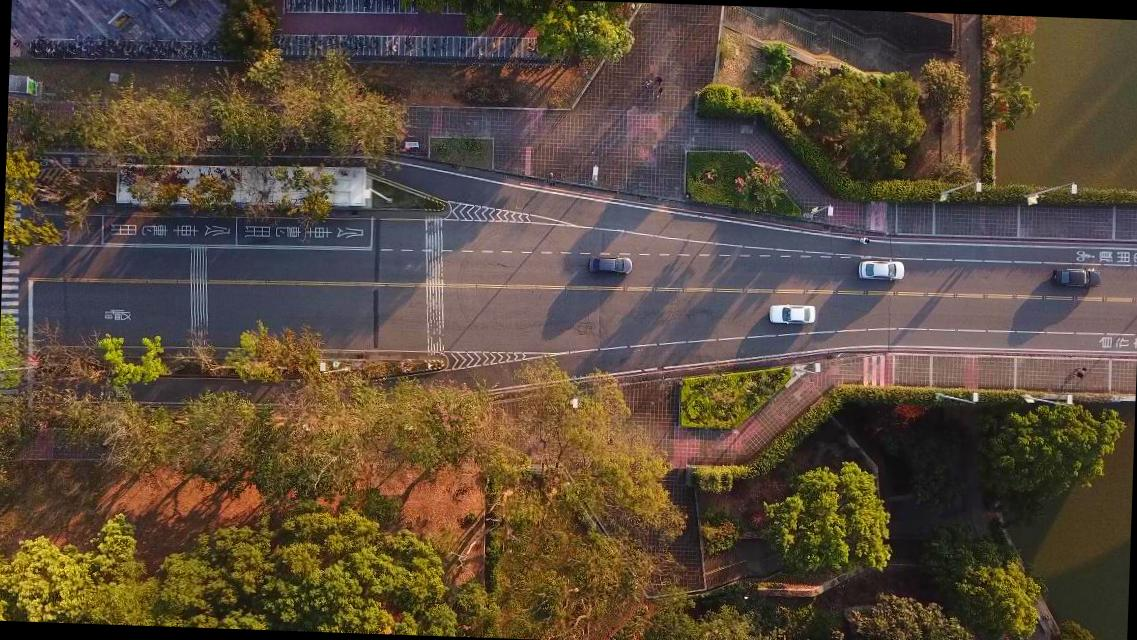vehicle: (858, 258, 906, 282), (768, 302, 815, 326), (1052, 266, 1100, 288), (588, 256, 632, 276)
